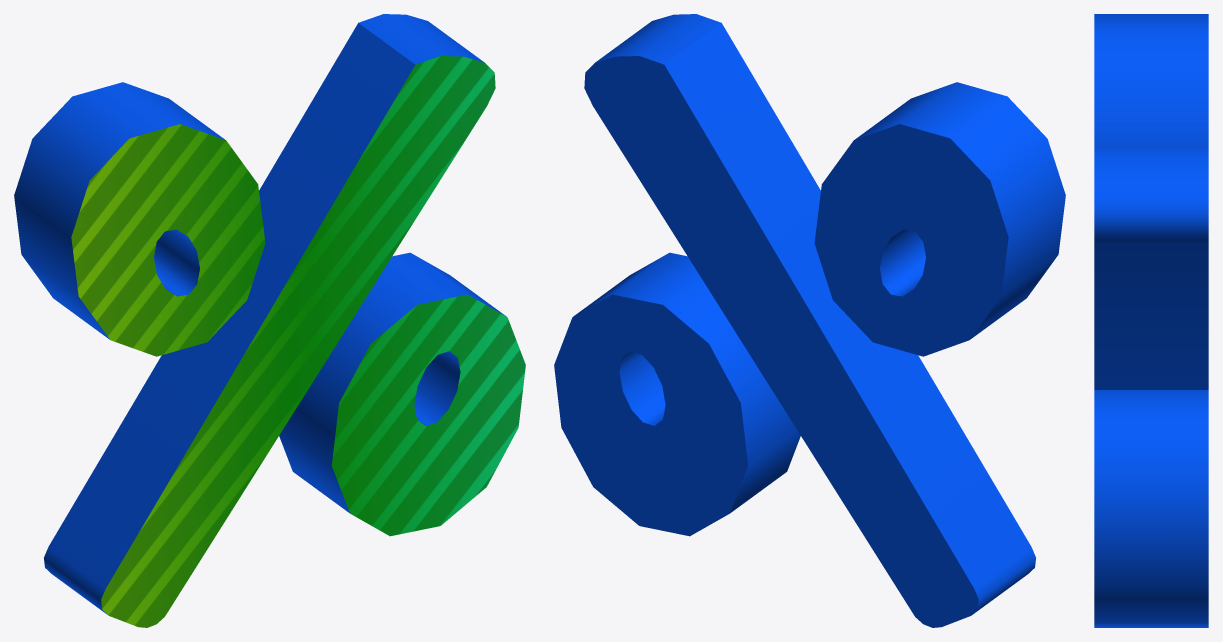
File: Interest.FBX
The picture shows the model from 3 angles, left to right: view 1: azimuth 30°, elevation 25°; view 2: azimuth 150°, elevation 25°; view 3: azimuth 270°, elevation 25°; orthographic projection.
Parts seen in each view (by area): view 1: Interest; view 2: Interest; view 3: Interest.
Part boxes in pixels (<box>): Interest: <box>14,14,525,627</box>; Interest: <box>554,14,1065,627</box>; Interest: <box>1094,14,1208,627</box>.
Size of the model in its own units: 91.67 by 96.45 by 20.
2 materials, 1 textured.
